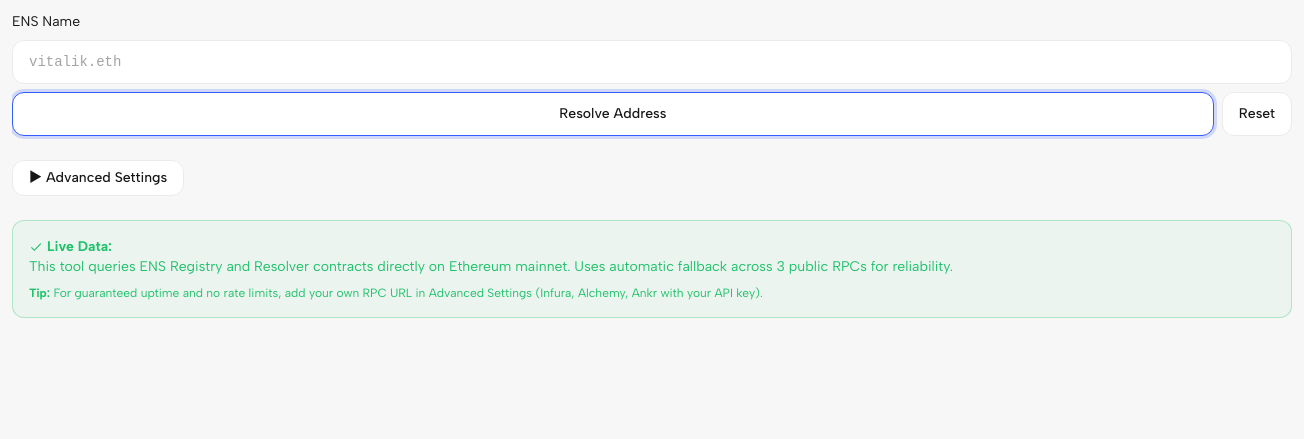
it: EnsResolverTool › toggles advanced settings
Click the button "▶ Advanced Settings".
click(98, 178)  # box [12, 160, 184, 196]
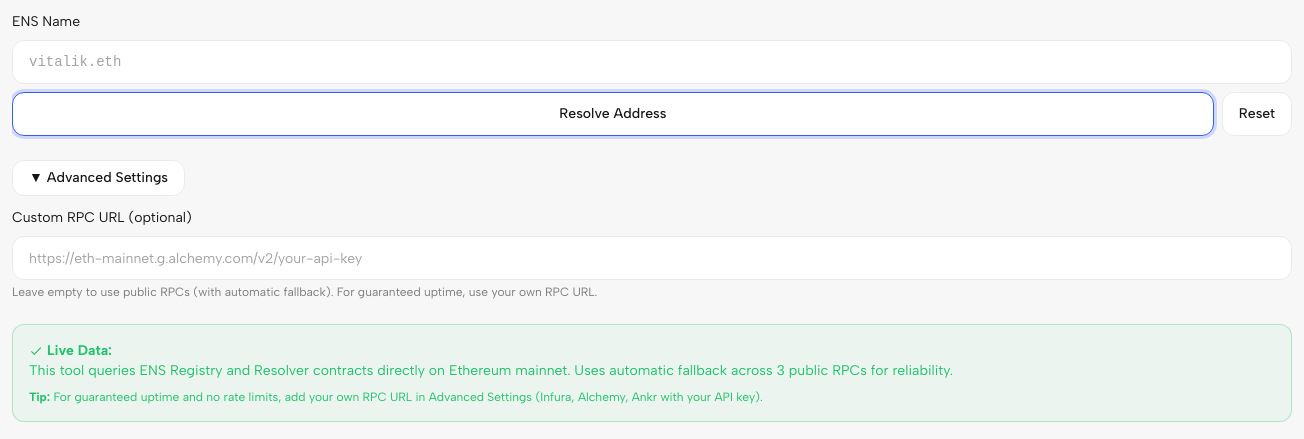
Now the text "Custom RPC URL (optional)" is shown, box [12, 209, 192, 226]
